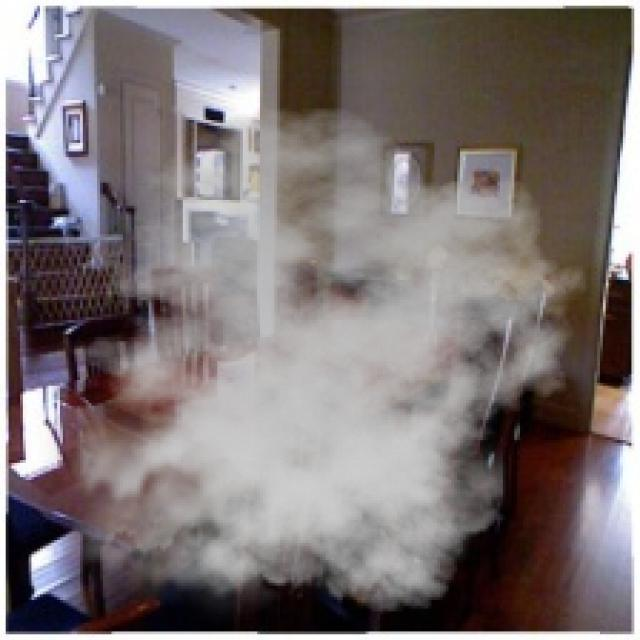Smoke: (37, 106, 589, 628)
